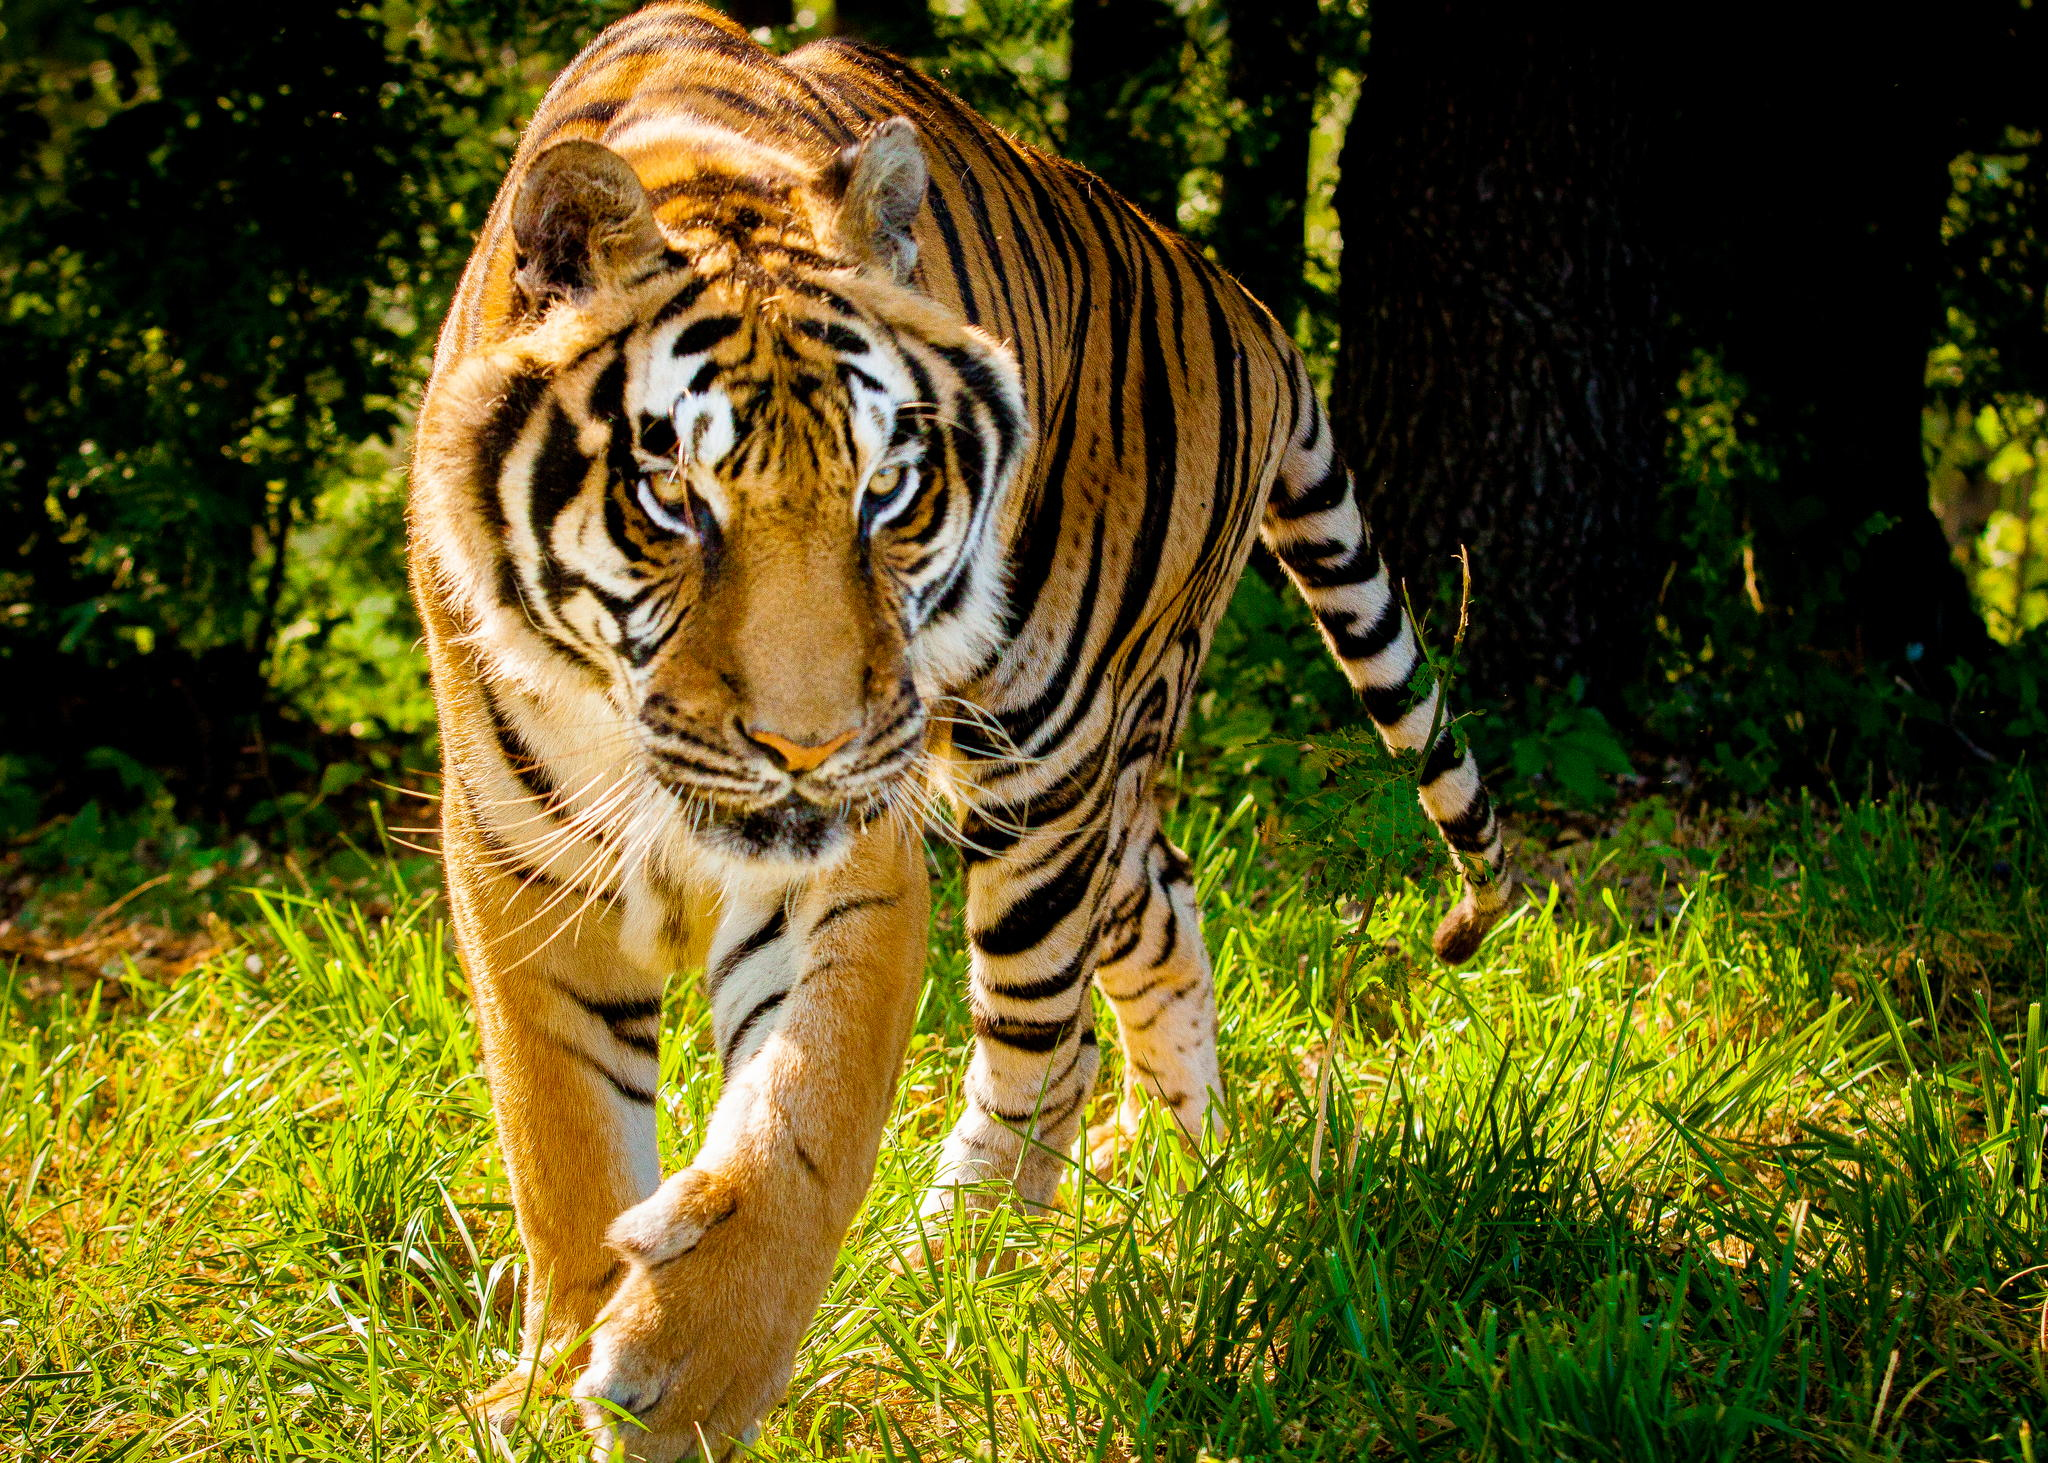tiger: (310, 27, 1510, 1368)
